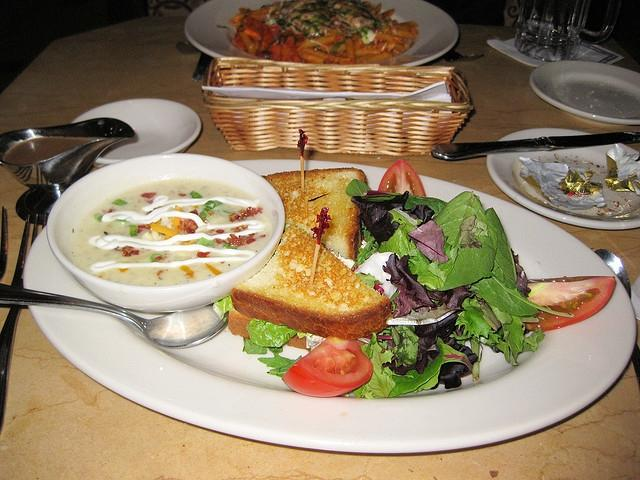lettuce: (484, 207, 574, 317), (424, 191, 498, 291), (351, 191, 435, 246), (354, 332, 416, 399), (388, 341, 445, 397), (468, 276, 538, 318), (382, 252, 434, 306), (414, 312, 458, 361), (406, 220, 448, 264), (246, 318, 298, 347), (498, 314, 524, 365), (473, 291, 502, 332), (392, 324, 419, 368), (258, 353, 302, 378), (510, 247, 531, 299), (386, 310, 458, 325), (405, 196, 448, 220), (518, 328, 546, 354)
tomato: (282, 336, 374, 398), (523, 276, 616, 332), (378, 158, 427, 197)
